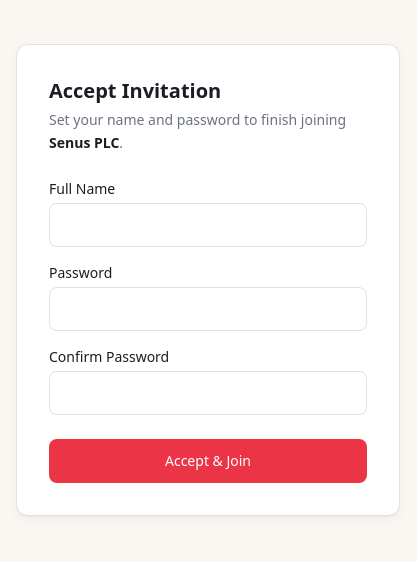
it: AcceptInvitationView › new-user invitation › shows the backend error on failure
Type "Jane Doe" into the field labelled "Full Name" at (208, 225), box [49,203,367,247]
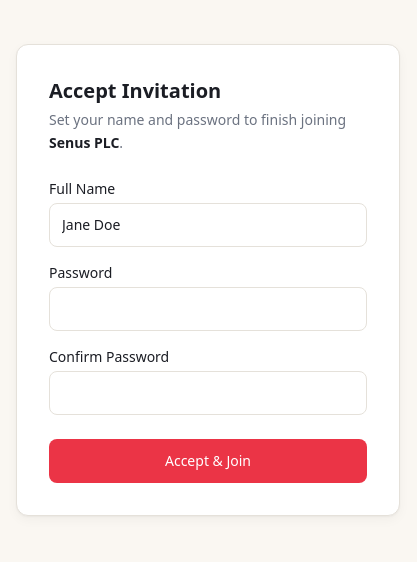
Type "password123" into the password field labelled "Password" at (208, 309), box [49,287,367,331]
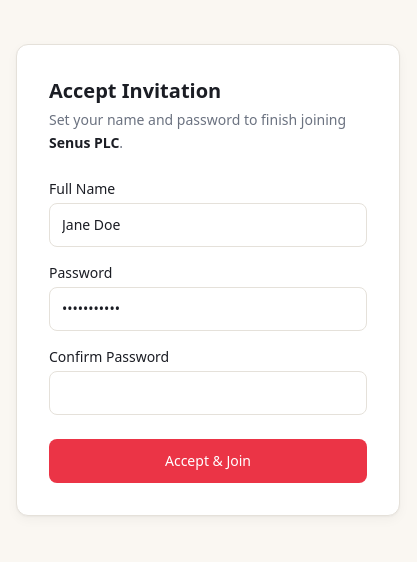
Type "password123" into the password field labelled "Confirm Password" at (208, 393), box [49,371,367,415]
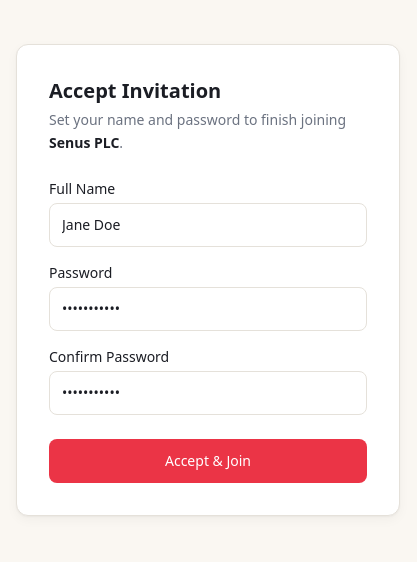
Click the button "Accept & Join" at (208, 461), box [49,439,367,483]
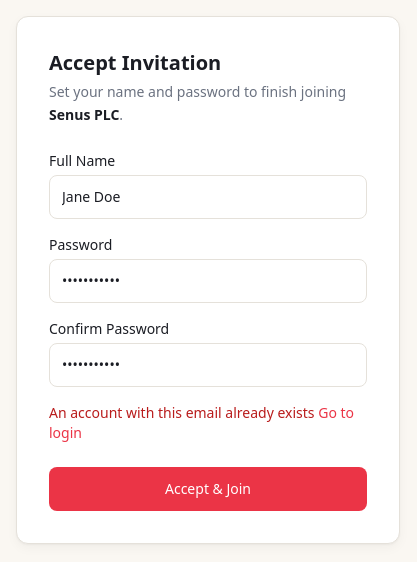
Expected: the text "An account with this email already exists" is shown, [49,403,314,422]
